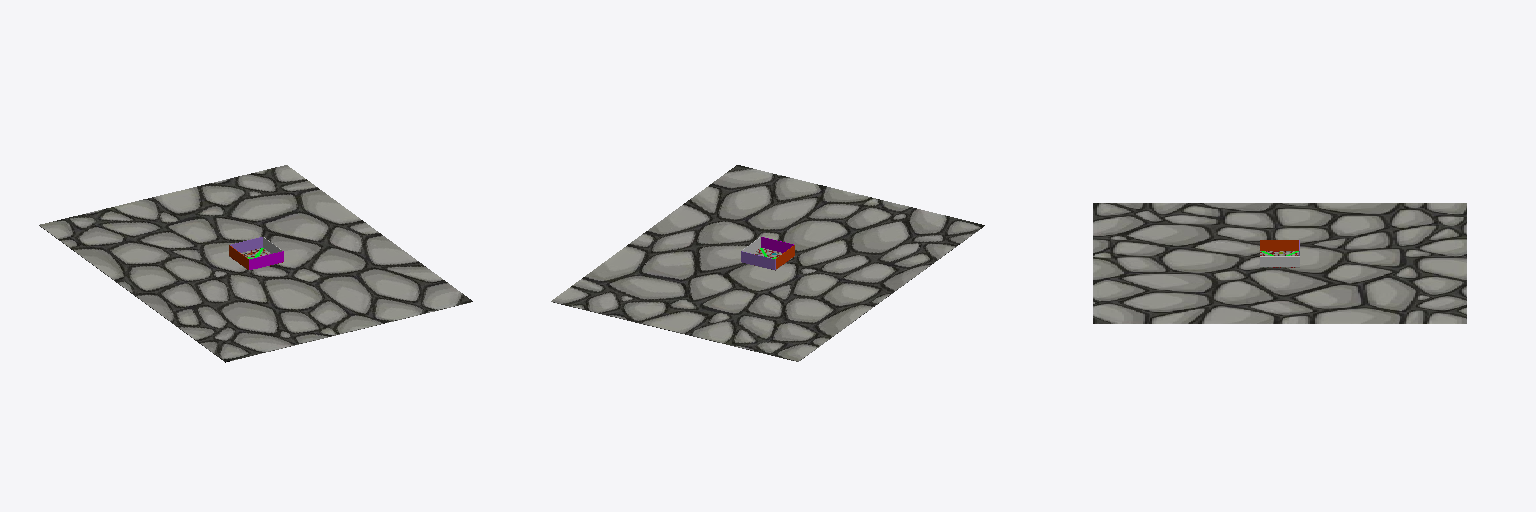
3 views of the same model, side by side, from view 1: azimuth 30°, elevation 25°; view 2: azimuth 150°, elevation 25°; view 3: azimuth 270°, elevation 25° (orthographic).
Visible parts, largest first — view 1: Ground_Cube.001; view 2: Ground_Cube.001; view 3: Ground_Cube.001.
Boxes of the visible parts, <box> form: Ground_Cube.001: <box>39,165,472,362</box>; Ground_Cube.001: <box>551,165,984,361</box>; Ground_Cube.001: <box>1093,203,1466,323</box>.
Bounding box in the file's own units: 101 × 6.13 × 131.
Materials: 6 (2 with a texture image).